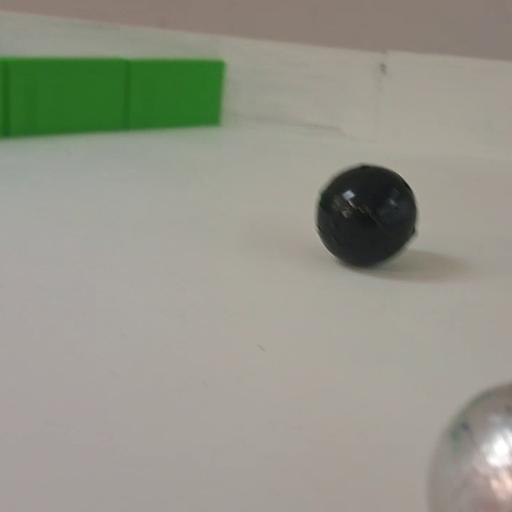alive: (424, 382, 512, 512)
dead: (308, 159, 422, 275)
